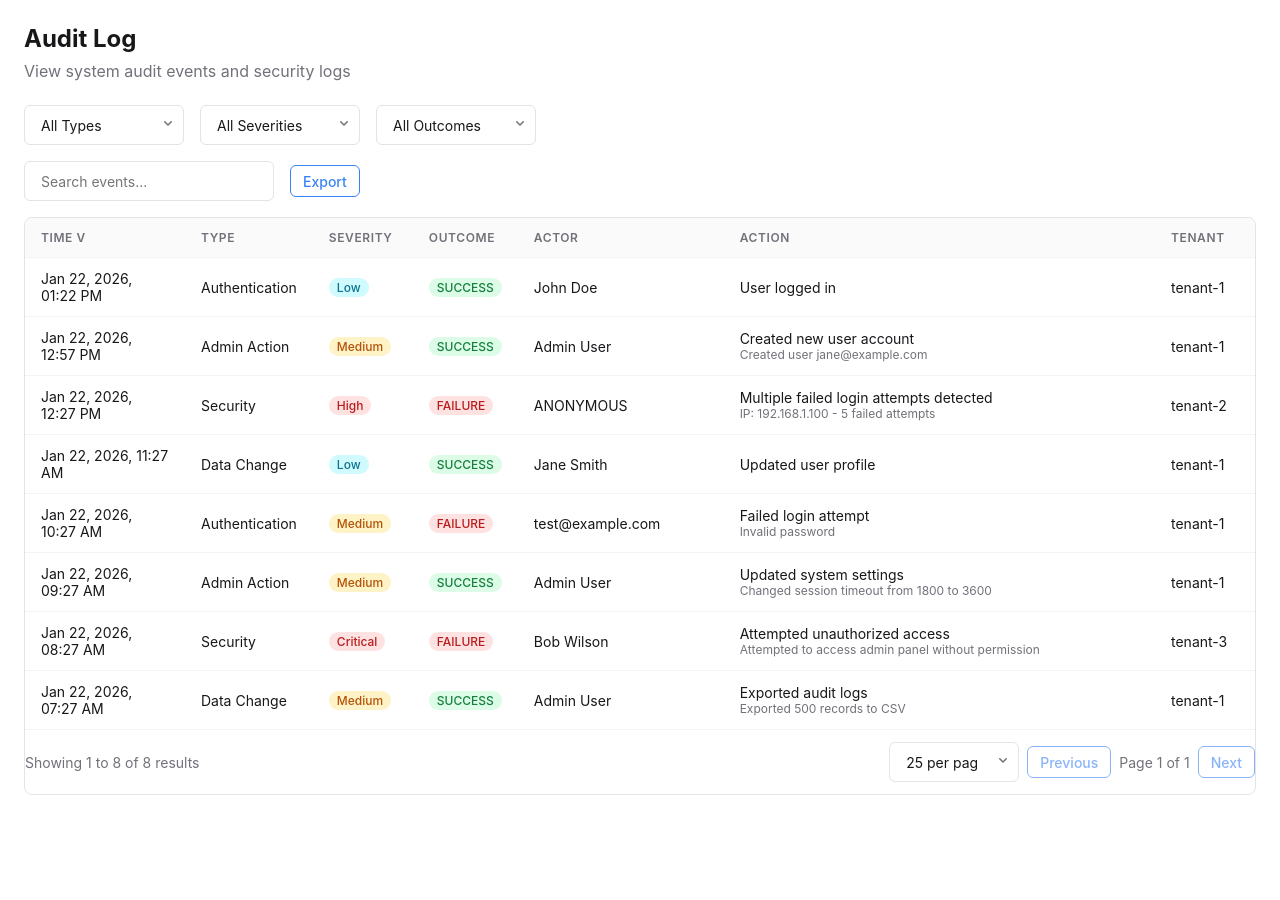
Test case: AuditLog › should filter by outcome
Select "Success" in the dropdown with test id "outcome-filter" at {"x": 456, "y": 125}, box x1=376 y1=105 x2=536 y2=145
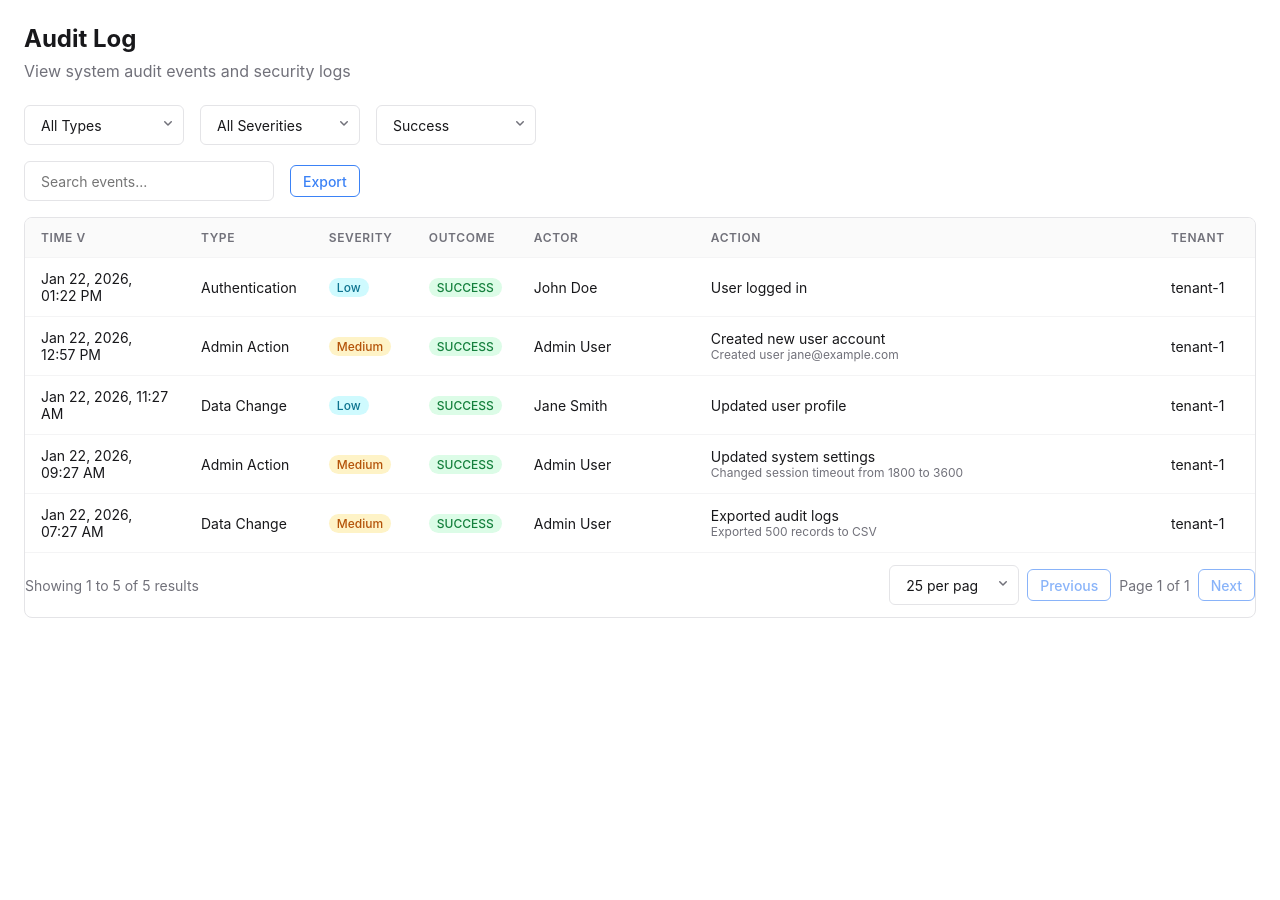
Now the text "FAILURE" is not shown
